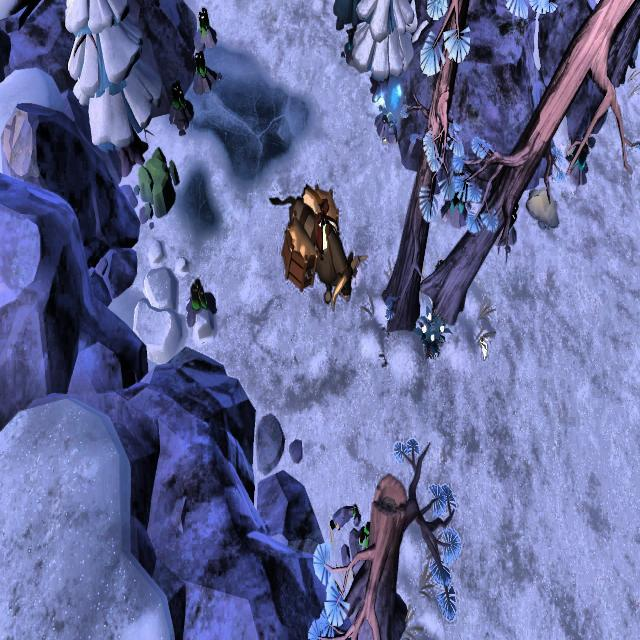fiber_t4: (415, 302, 447, 359)
ore_t3: (188, 276, 208, 316), (170, 77, 187, 118), (196, 0, 211, 39), (192, 46, 207, 84)
ore_t4: (569, 138, 590, 176)
rock_t3: (134, 140, 183, 220)
rock_t4: (329, 0, 372, 37)
